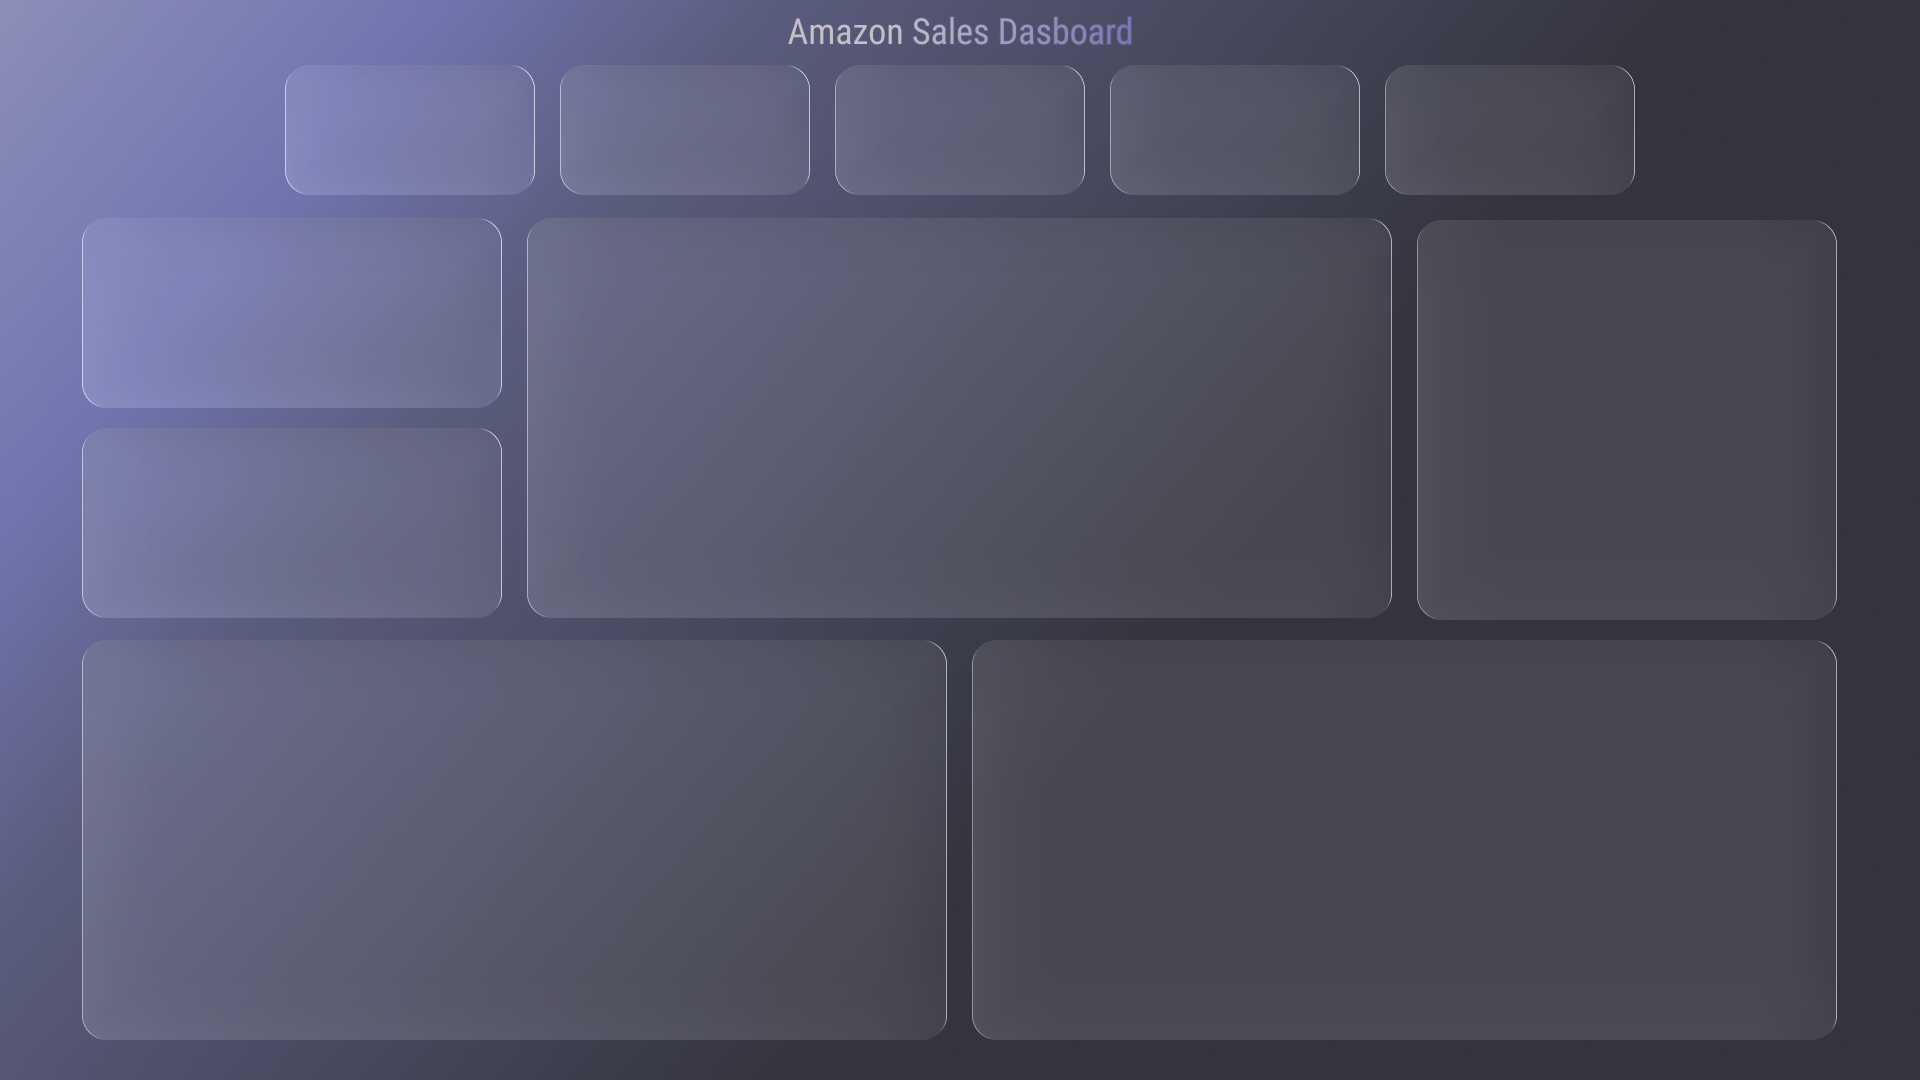

This screenshot's page, from the dashboard's own definition file:
{"tool":"powerbi","page":{"name":"Page 1","canvas":[1280,720],"ordinal":0},"visuals":[{"type":"card","fields":{"Values":["amazon_sales.Total Revenue"]},"box":[191.2,42.5,165,85],"z":0},{"type":"card","fields":{"Values":["amazon_sales.Total Orders"]},"box":[374.4,42.5,165,85],"z":1000},{"type":"card","fields":{"Values":["amazon_sales.Total Quantity"]},"box":[557.5,42.5,165,85],"z":2000},{"type":"card","fields":{"Values":["amazon_sales.Completion Rate"]},"box":[923.8,42.5,165,85],"z":3000},{"type":"card","fields":{"Values":["amazon_sales.Average Order Value"]},"box":[741.2,42.5,165,85],"z":4000},{"type":"barChart","fields":{"Category":["amazon_sales.Category"],"Y":["amazon_sales.Total Revenue"]},"box":[651.2,426.2,571.2,262.5],"z":5000},{"type":"lineChart","fields":{"Category":["amazon_sales.Date.Variation.Date Hierarchy.Month","amazon_sales.Date.Variation.Date Hierarchy.Day"],"Y":["amazon_sales.Total Revenue"]},"box":[355.7,145.2,568.6,263.4],"z":6000},{"type":"columnChart","fields":{"Category":["amazon_sales.Product"],"Y":["amazon_sales.Total Revenue"]},"box":[57.5,426.2,570,262.5],"z":7000},{"type":"donutChart","fields":{"Category":["amazon_sales.Status"],"Y":["amazon_sales.Total Orders"]},"box":[946.2,145,276.2,263.8],"z":8000},{"type":"advancedSlicerVisual","title":"Month","fields":{"Values":["amazon_sales.Month Name"]},"box":[57.8,145.2,274.5,120.6],"z":9000},{"type":"advancedSlicerVisual","title":"Category","fields":{"Values":["amazon_sales.Category"]},"box":[57.8,288,274.5,120.6],"z":10000}]}

Visuals, with their boxes in screenshot pixels (x1, y1, x2, y2), scaled from the page's 1280x720 canvas onto the 1920x1080 screenshot:
card - amazon_sales.Total Revenue: {"x1": 287, "y1": 64, "x2": 534, "y2": 191}
card - amazon_sales.Total Orders: {"x1": 562, "y1": 64, "x2": 809, "y2": 191}
card - amazon_sales.Total Quantity: {"x1": 836, "y1": 64, "x2": 1084, "y2": 191}
card - amazon_sales.Completion Rate: {"x1": 1386, "y1": 64, "x2": 1633, "y2": 191}
card - amazon_sales.Average Order Value: {"x1": 1112, "y1": 64, "x2": 1359, "y2": 191}
barChart - amazon_sales.Category x amazon_sales.Total Revenue: {"x1": 977, "y1": 639, "x2": 1834, "y2": 1033}
lineChart - amazon_sales.Date.Variation.Date Hierarchy.Month x amazon_sales.Date.Variation.Date Hierarchy.Day: {"x1": 534, "y1": 218, "x2": 1386, "y2": 613}
columnChart - amazon_sales.Product x amazon_sales.Total Revenue: {"x1": 86, "y1": 639, "x2": 941, "y2": 1033}
donutChart - amazon_sales.Status x amazon_sales.Total Orders: {"x1": 1419, "y1": 218, "x2": 1834, "y2": 613}
"Month" advancedSlicerVisual: {"x1": 87, "y1": 218, "x2": 498, "y2": 399}
"Category" advancedSlicerVisual: {"x1": 87, "y1": 432, "x2": 498, "y2": 613}
